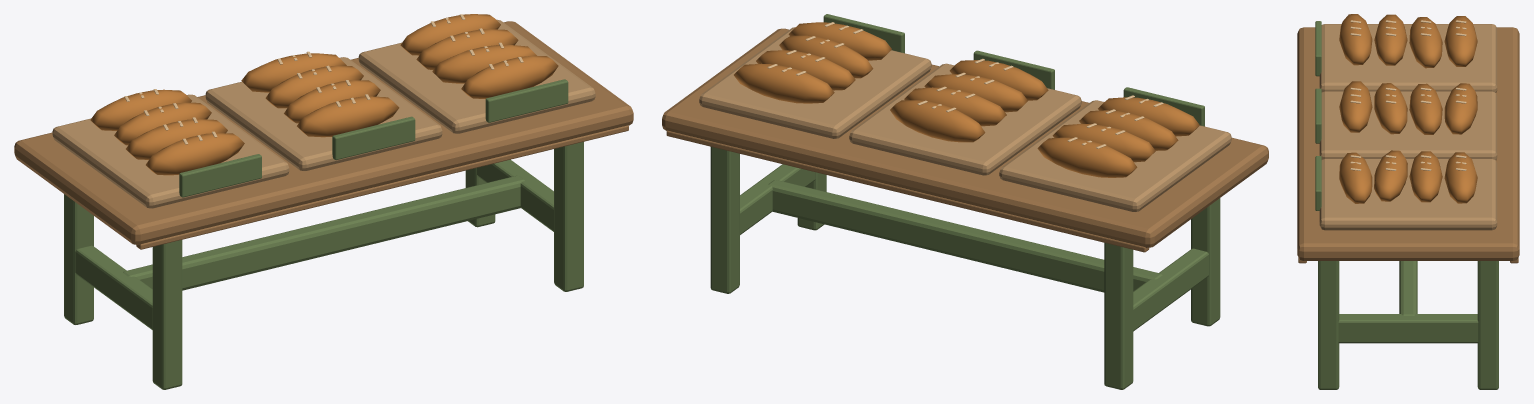
File: rivora_bakery.glb
3 views of the same model, side by side, from view 1: azimuth 30°, elevation 25°; view 2: azimuth 150°, elevation 25°; view 3: azimuth 270°, elevation 25° (orthographic). The views are drawn at different scales.
Visible parts, largest first — view 1: rivora_bakery; view 2: rivora_bakery; view 3: rivora_bakery.
Boxes of the visible parts, x1,y1,x2,y2 form: rivora_bakery: (14,14,633,389); rivora_bakery: (662,14,1268,389); rivora_bakery: (1297,14,1519,389).
Size of the model in its own units: 1.72 by 0.737 by 0.73.
